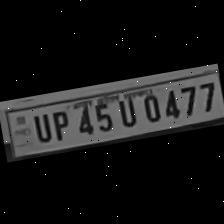0: (137, 88, 162, 124)
4: (68, 99, 95, 136), (157, 84, 181, 120)
5: (88, 95, 114, 133)
7: (193, 76, 218, 113), (176, 80, 200, 116)
P: (46, 106, 72, 141)
U: (112, 90, 140, 128), (28, 109, 54, 144)
